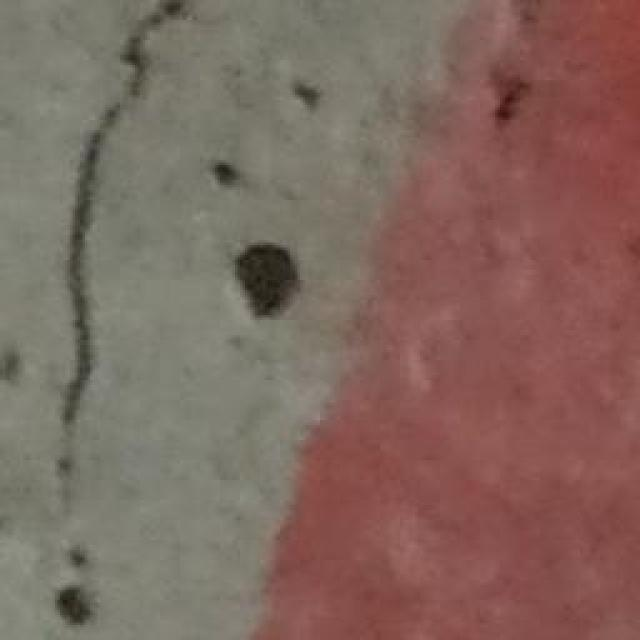Longitudinal: (30, 0, 187, 640)
Rippled: (206, 2, 598, 354)
